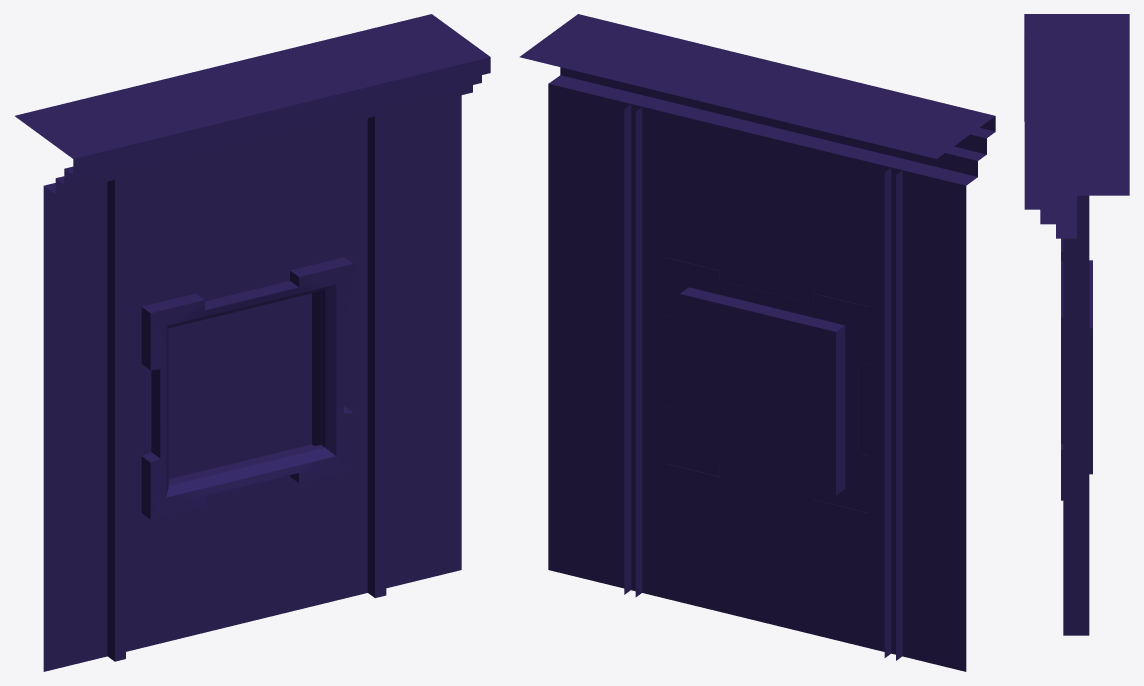
File: SM_boss2Fwindow002.fbx
3 renders of one model, left to right at view 1: azimuth 30°, elevation 25°; view 2: azimuth 150°, elevation 25°; view 3: azimuth 270°, elevation 25°, orthographic. The views are drawn at different scales.
Visible parts, largest first — view 1: SM_boss2Fwindow002; view 2: SM_boss2Fwindow002; view 3: SM_boss2Fwindow002.
Boxes of the visible parts, x1,y1,x2,y2 form: SM_boss2Fwindow002: (15,14,490,671); SM_boss2Fwindow002: (519,14,995,671); SM_boss2Fwindow002: (1024,14,1129,635).
Size of the model in its own units: 409 by 500 by 100.
